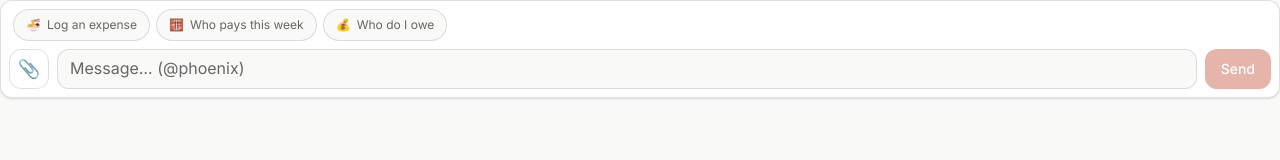
Test: Composer suggestion chips › hides the chips once the composer has text
Type "@phoenix hi" into the text box named "Compose message" at (627, 69), box left=57, top=49, right=1197, bottom=89
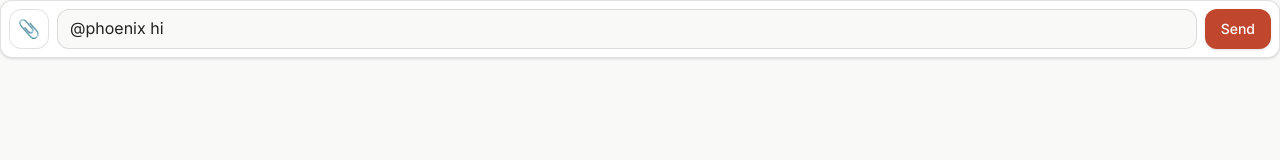
Expected: the button "Log an expense" is gone
